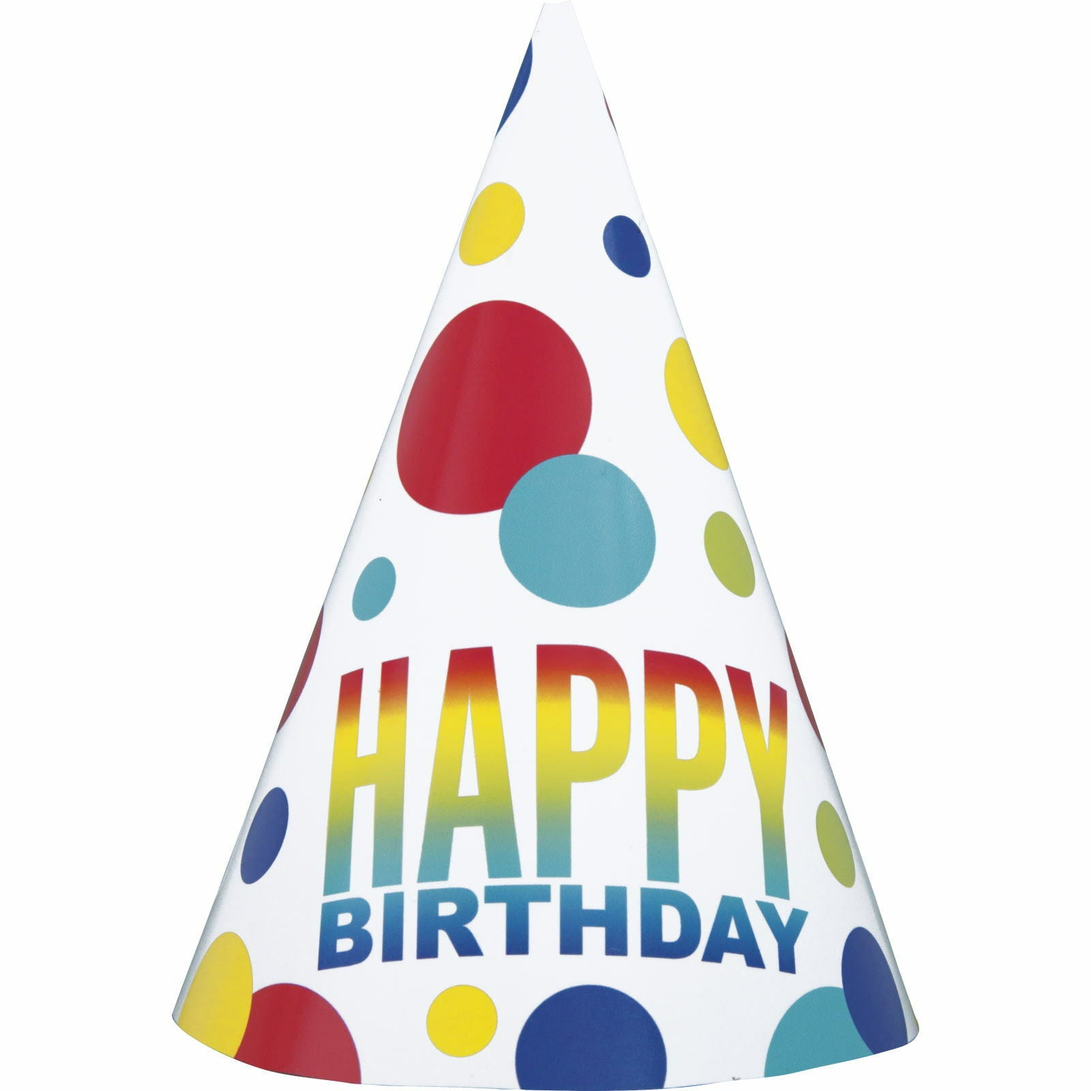cone: (171, 1, 920, 1090)
